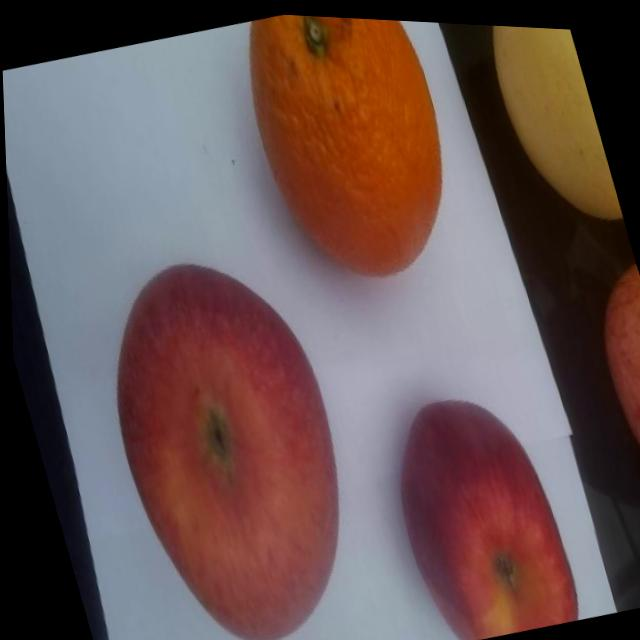Apple: (74, 234, 383, 640), (369, 374, 583, 640), (579, 253, 640, 517)
Orange: (228, 9, 478, 298)
